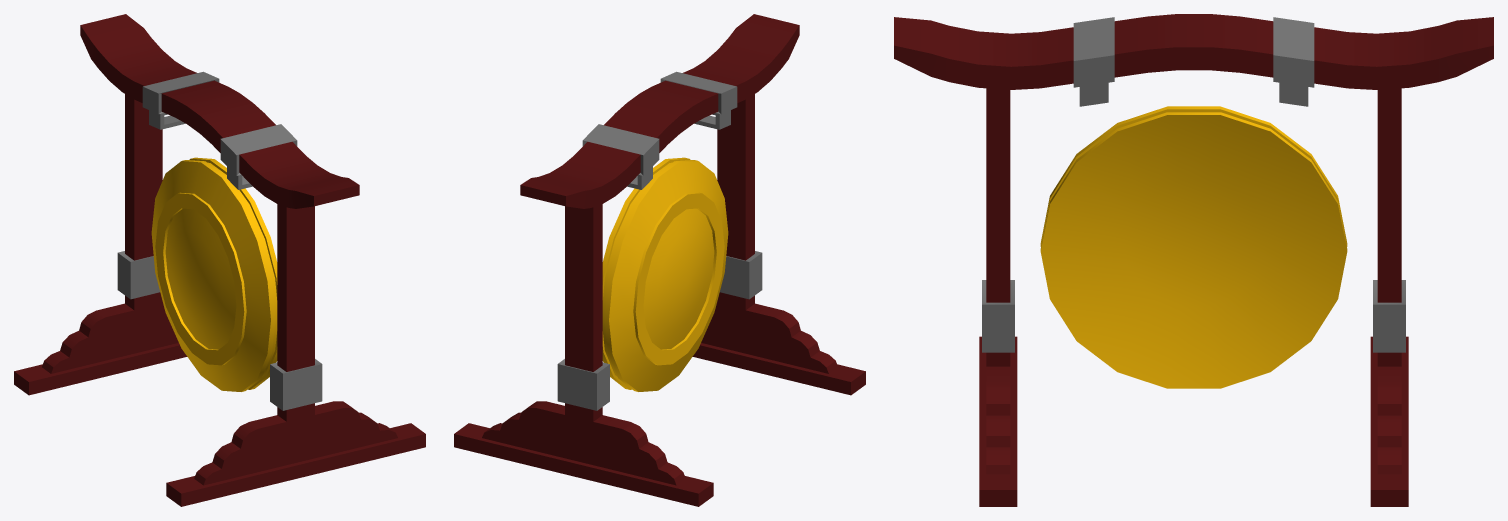
The model's file is Bong.fbx.
The picture shows the model from 3 angles, left to right: view 1: azimuth 30°, elevation 25°; view 2: azimuth 150°, elevation 25°; view 3: azimuth 270°, elevation 25°; orthographic projection. The views are drawn at different scales.
Visible parts, largest first — view 1: BongBase, Bong; view 2: BongBase, Bong; view 3: Bong, BongBase.
Boxes of the visible parts, box(x1,y1,x2,y2) form: BongBase: box(14, 14, 425, 506); Bong: box(151, 157, 277, 391); BongBase: box(454, 14, 865, 506); Bong: box(602, 157, 728, 391); Bong: box(1040, 106, 1347, 388); BongBase: box(894, 14, 1493, 506).
Size of the model in its own units: 185 by 226 by 307.
